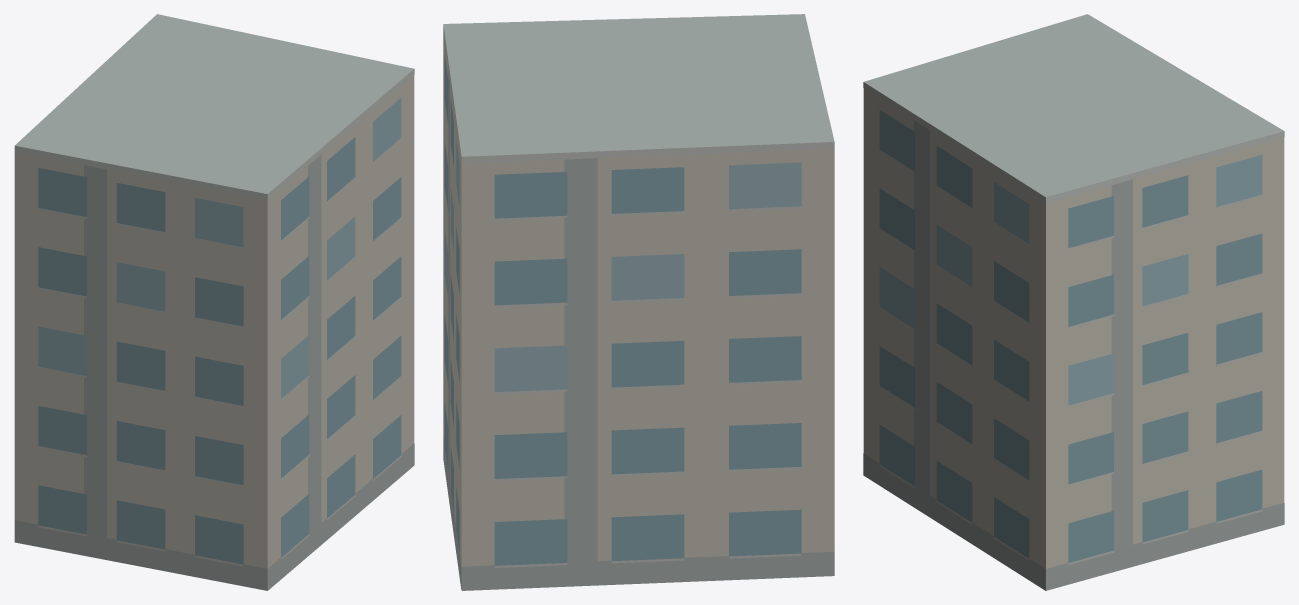
Rendered from survey-upis-32884137.glb.
3 renders of one model, left to right at view 1: azimuth 30°, elevation 25°; view 2: azimuth 150°, elevation 25°; view 3: azimuth 270°, elevation 25°, orthographic. The views are drawn at different scales.
Visible parts, largest first — view 1: survey-upis-32884137.tmp; view 2: survey-upis-32884137.tmp; view 3: survey-upis-32884137.tmp.
Boxes of the visible parts, x1,y1,x2,y2 form: survey-upis-32884137.tmp: [14, 14, 414, 590]; survey-upis-32884137.tmp: [443, 14, 834, 590]; survey-upis-32884137.tmp: [863, 14, 1284, 590].
Size of the model in its own units: 15.59 by 15.6 by 15.13.
